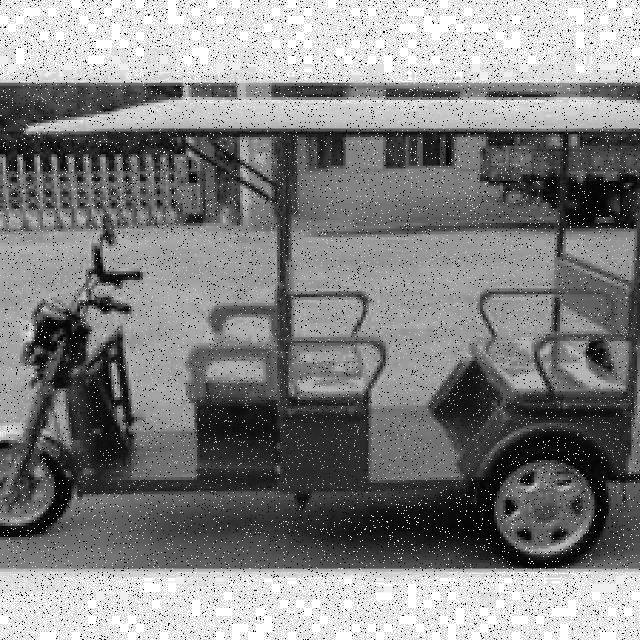Toto: (0, 92, 640, 558)
